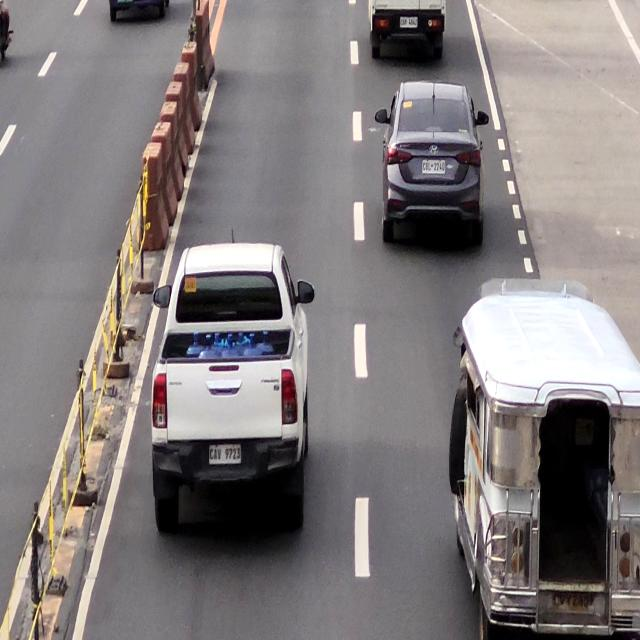Car: (154, 247, 309, 534), (383, 82, 479, 241), (371, 0, 444, 54)
Jeep: (460, 275, 640, 640)
License-Plate: (552, 592, 594, 616), (209, 440, 240, 465), (421, 156, 447, 174)
